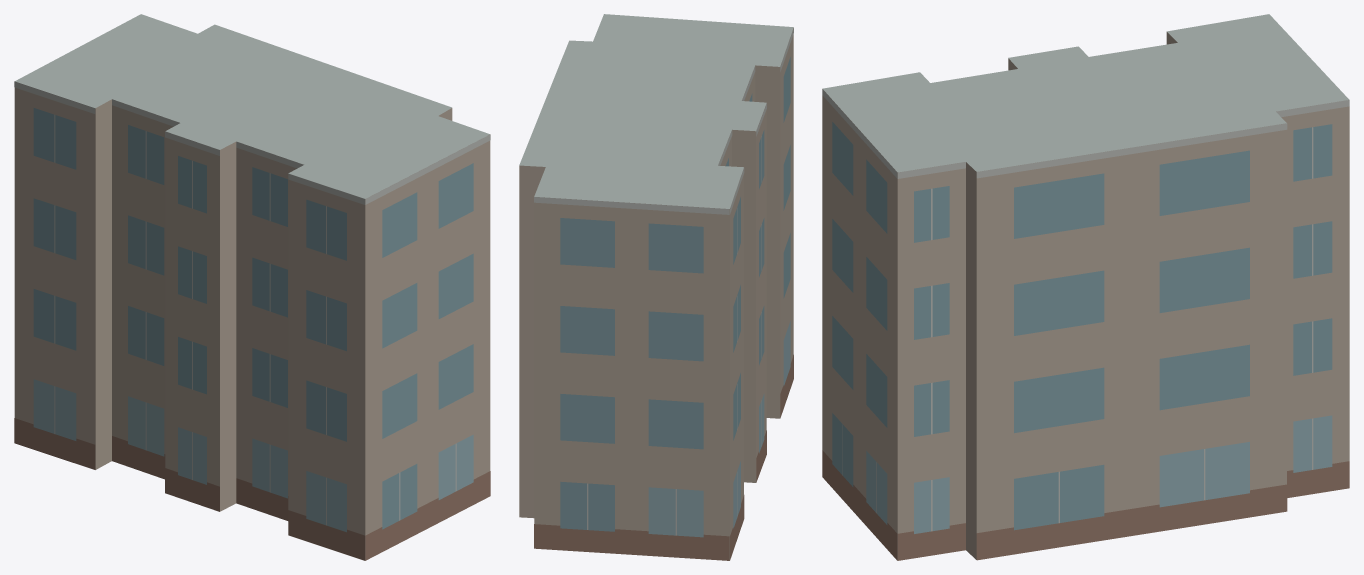
Rendered from survey-upis-32980006.glb.
3 views of the same model, side by side, from view 1: azimuth 30°, elevation 25°; view 2: azimuth 150°, elevation 25°; view 3: azimuth 270°, elevation 25° (orthographic). The views are drawn at different scales.
Visible parts, largest first — view 1: survey-upis-32980006.tmp; view 2: survey-upis-32980006.tmp; view 3: survey-upis-32980006.tmp.
Boxes of the visible parts, box(x1,y1,x2,y2) form: survey-upis-32980006.tmp: box(14, 14, 490, 560); survey-upis-32980006.tmp: box(519, 14, 793, 560); survey-upis-32980006.tmp: box(822, 14, 1349, 560).
Size of the model in its own units: 12.7 by 14.5 by 17.85.
